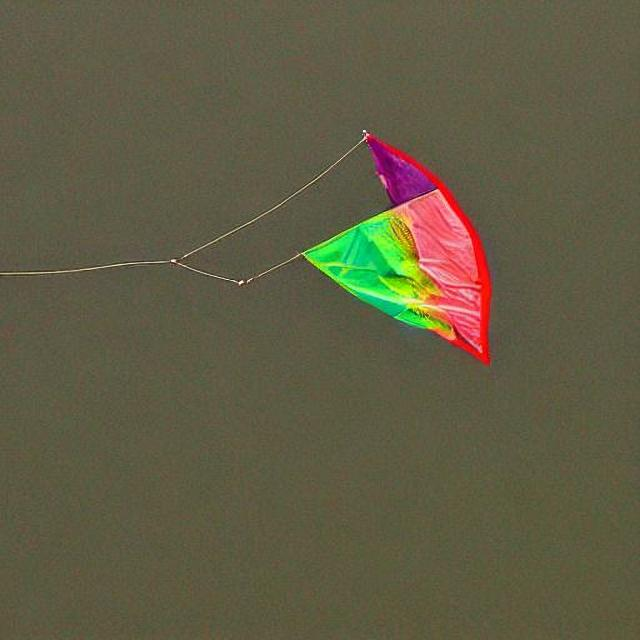floating object: (304, 129, 497, 358)
